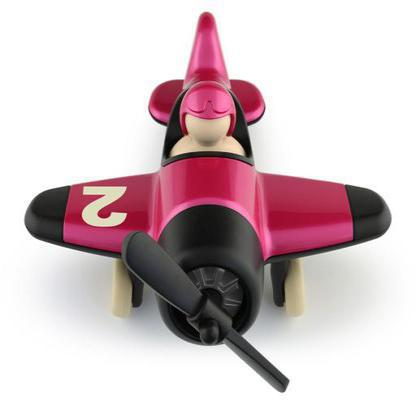CIV_Plane: (18, 9, 396, 398)
